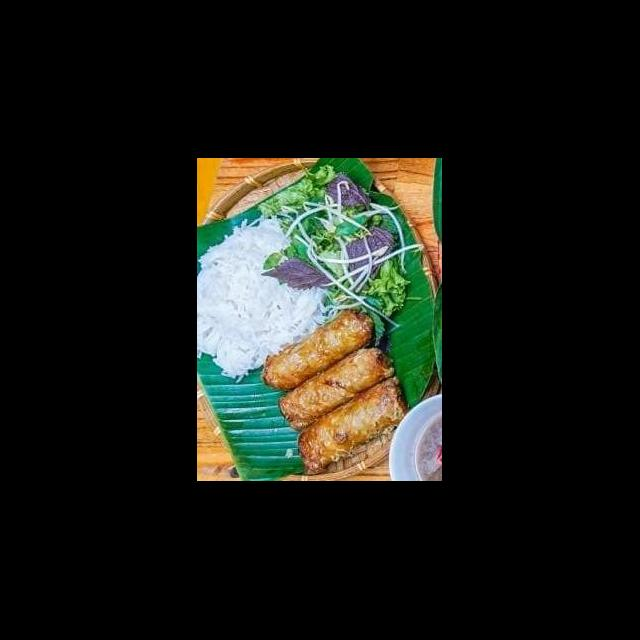bun: (198, 202, 338, 382)
cha gio: (272, 348, 413, 477), (256, 306, 382, 398)
